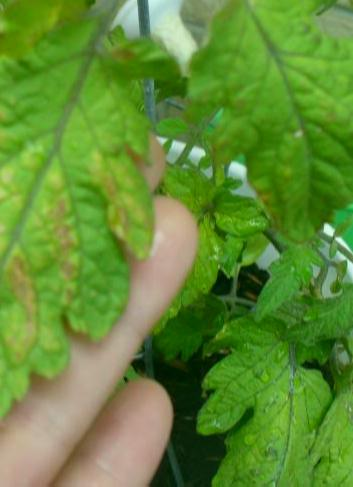Tomato leaf bacterial spot: (0, 0, 166, 478), (172, 0, 353, 260)
